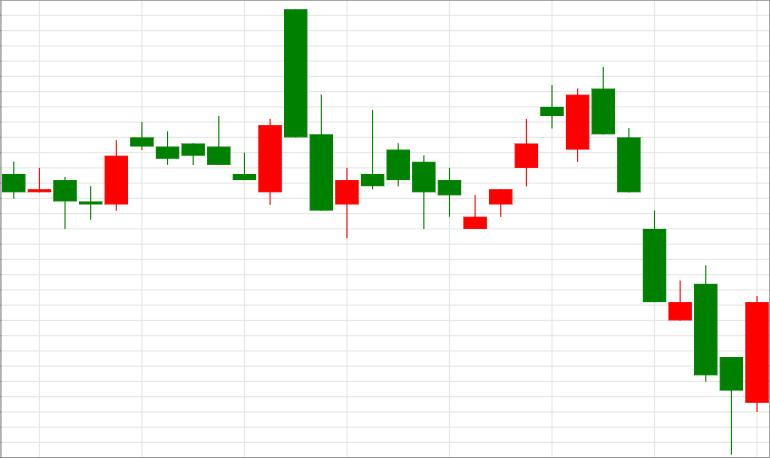hammer_rise: (592, 68, 742, 456)
three_black_crows_fall: (464, 67, 666, 301)
